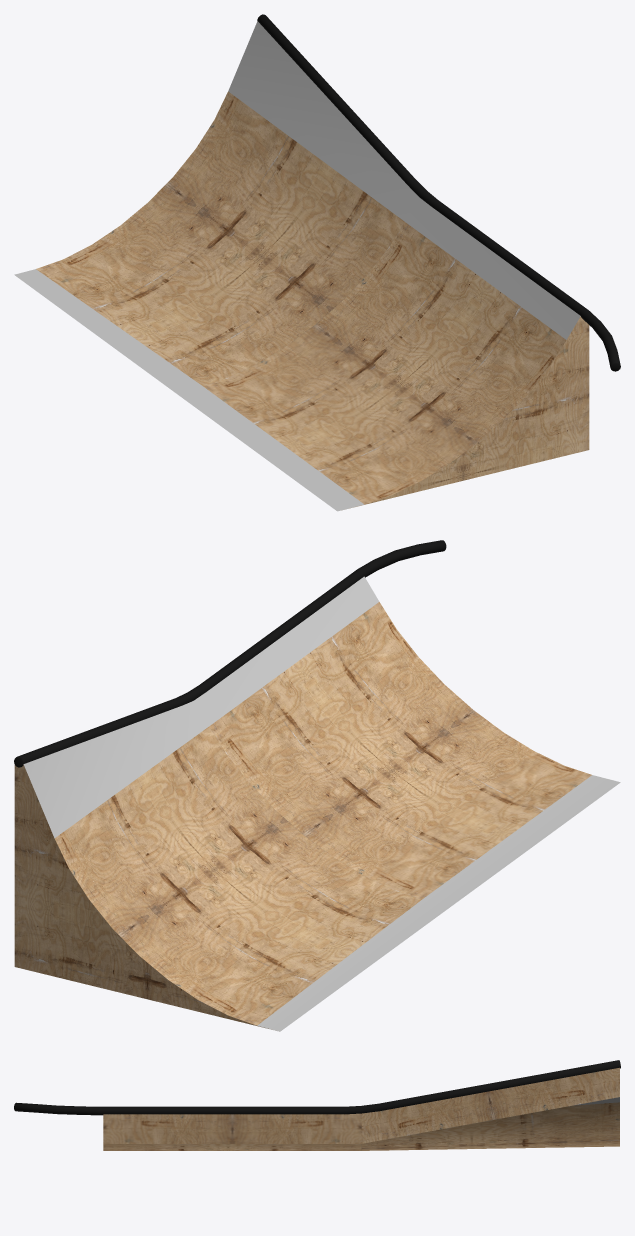
File: quarterB.fbx
3 renders of one model, top to bottom at view 1: azimuth 30°, elevation 25°; view 2: azimuth 150°, elevation 25°; view 3: azimuth 270°, elevation 25°, orthographic. The views are drawn at different scales.
Visible parts, largest first — view 1: quarterB, quarterBcoping; view 2: quarterB, quarterBcoping; view 3: quarterB, quarterBcoping.
Part boxes in pixels (x1,y1,x2,y2): quarterB: [14, 21, 589, 511]; quarterBcoping: [257, 14, 620, 371]; quarterB: [14, 576, 620, 1031]; quarterBcoping: [14, 540, 446, 767]; quarterB: [103, 1067, 619, 1150]; quarterBcoping: [14, 1060, 620, 1115].
Bounding box in the file's own units: 271 × 205 × 705.
